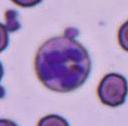N: (34, 36, 93, 91)
